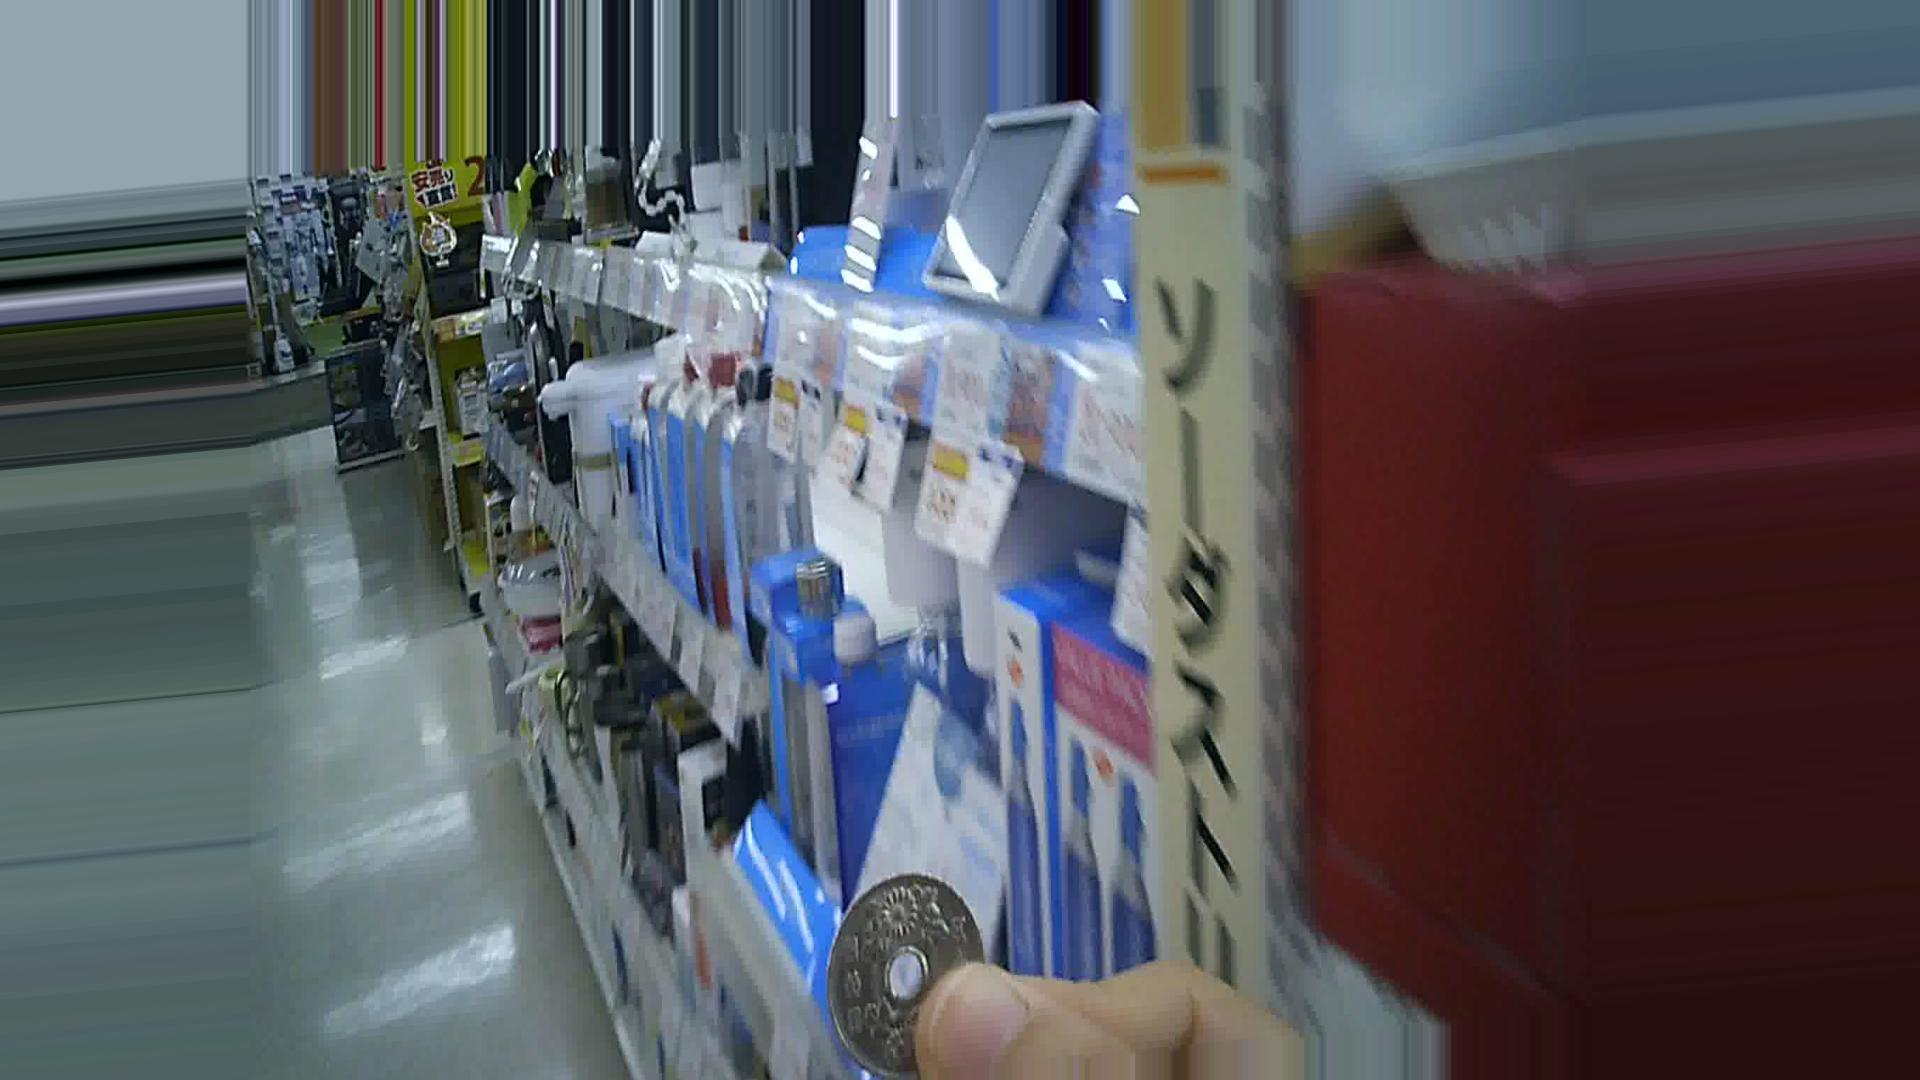50 Yen: (811, 886, 996, 1069)
